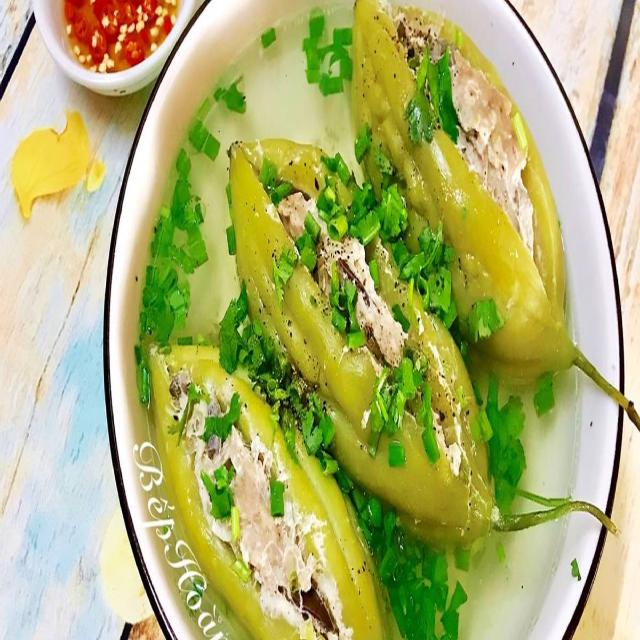kho qua: (230, 139, 497, 545), (351, 0, 575, 381), (149, 345, 383, 639)
